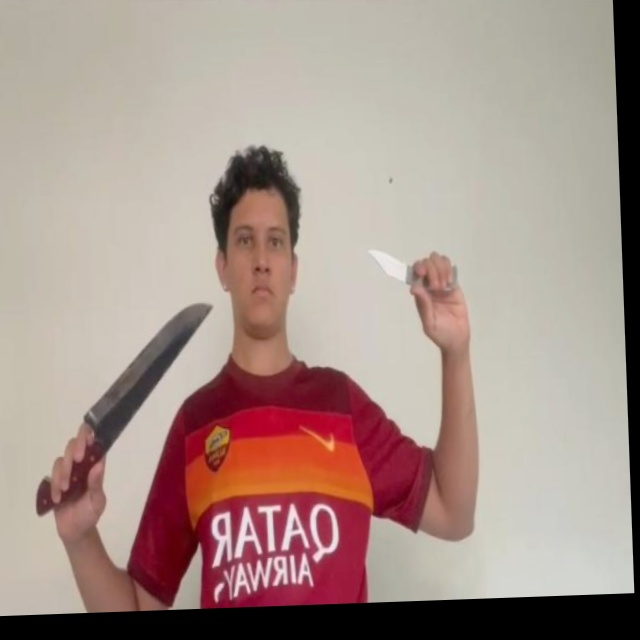Sharp-Object: (79, 300, 219, 431), (366, 246, 407, 283)
